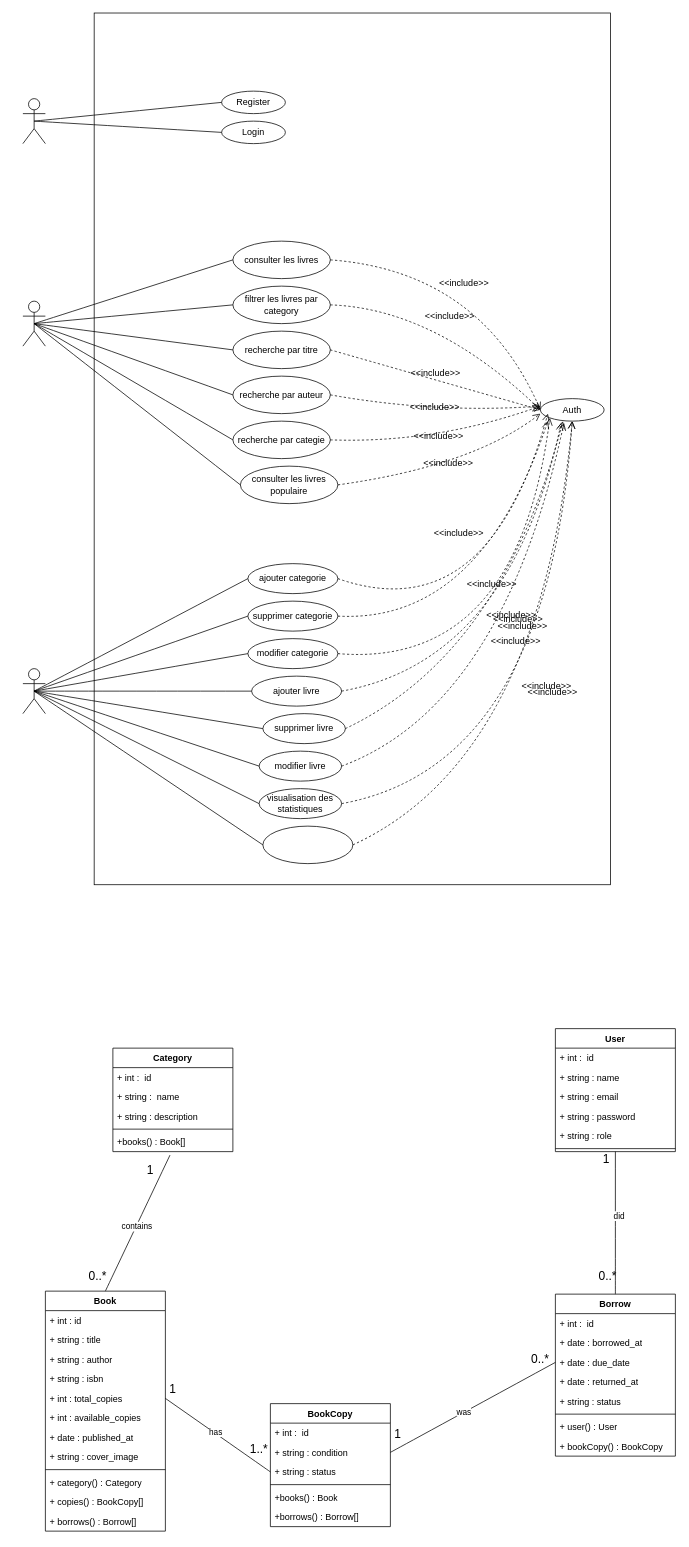
This 689x1547 diagram has some shape labels left out. Each missing label, with the centre of its shape:
Admin: pixel 33 691
Gourmand: pixel 33 323
Guest: pixel 33 121
voir la quantité des ouvrages dégardé: pixel 307 844
